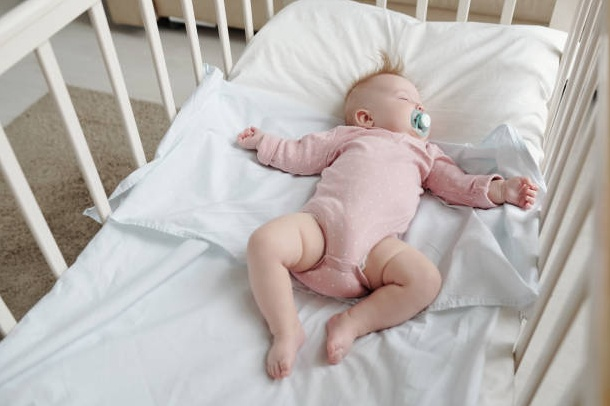baby: (237, 55, 537, 378)
crib: (512, 0, 609, 404)
